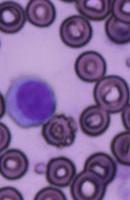L: (5, 74, 58, 127)
